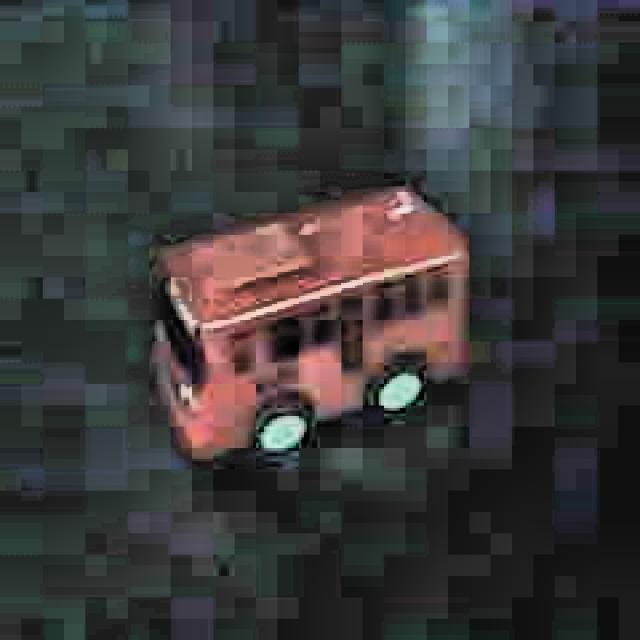bus: (137, 175, 491, 478)
